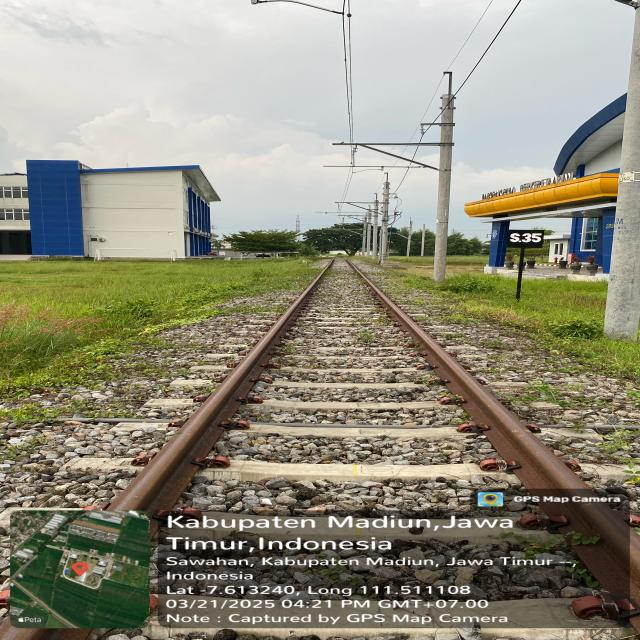rail-detection: (109, 261, 334, 539), (346, 260, 585, 489)
